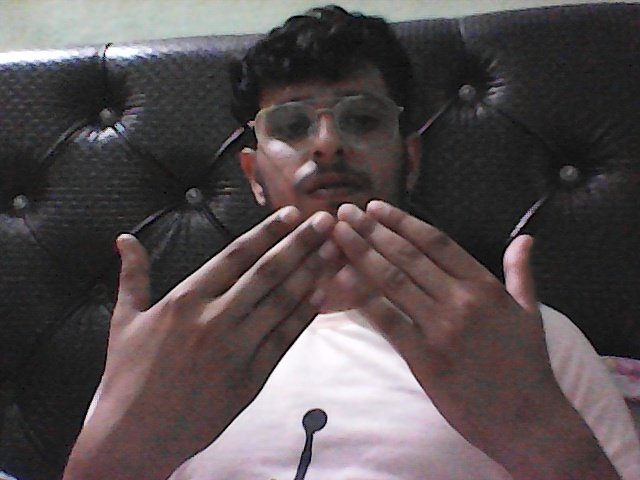thankyou: (57, 186, 567, 465)
